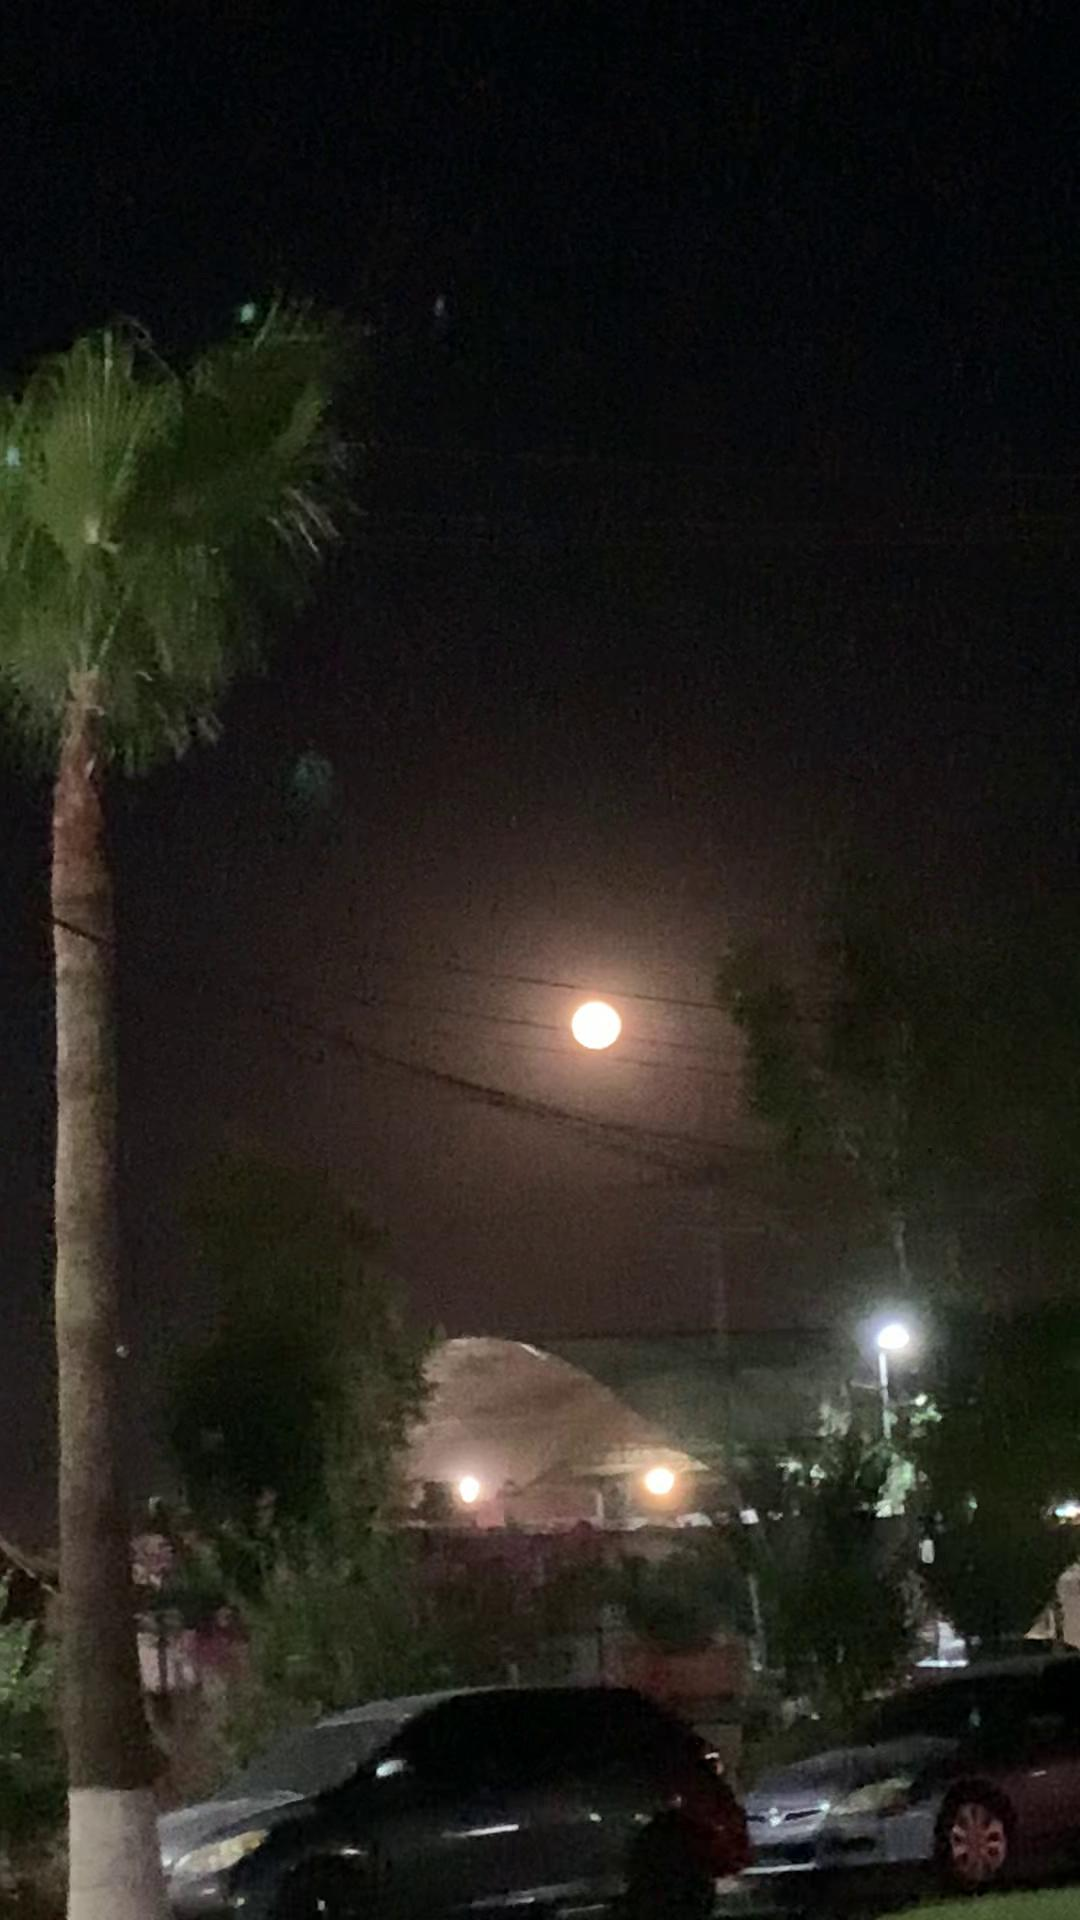moon: (545, 1002, 627, 1061)
